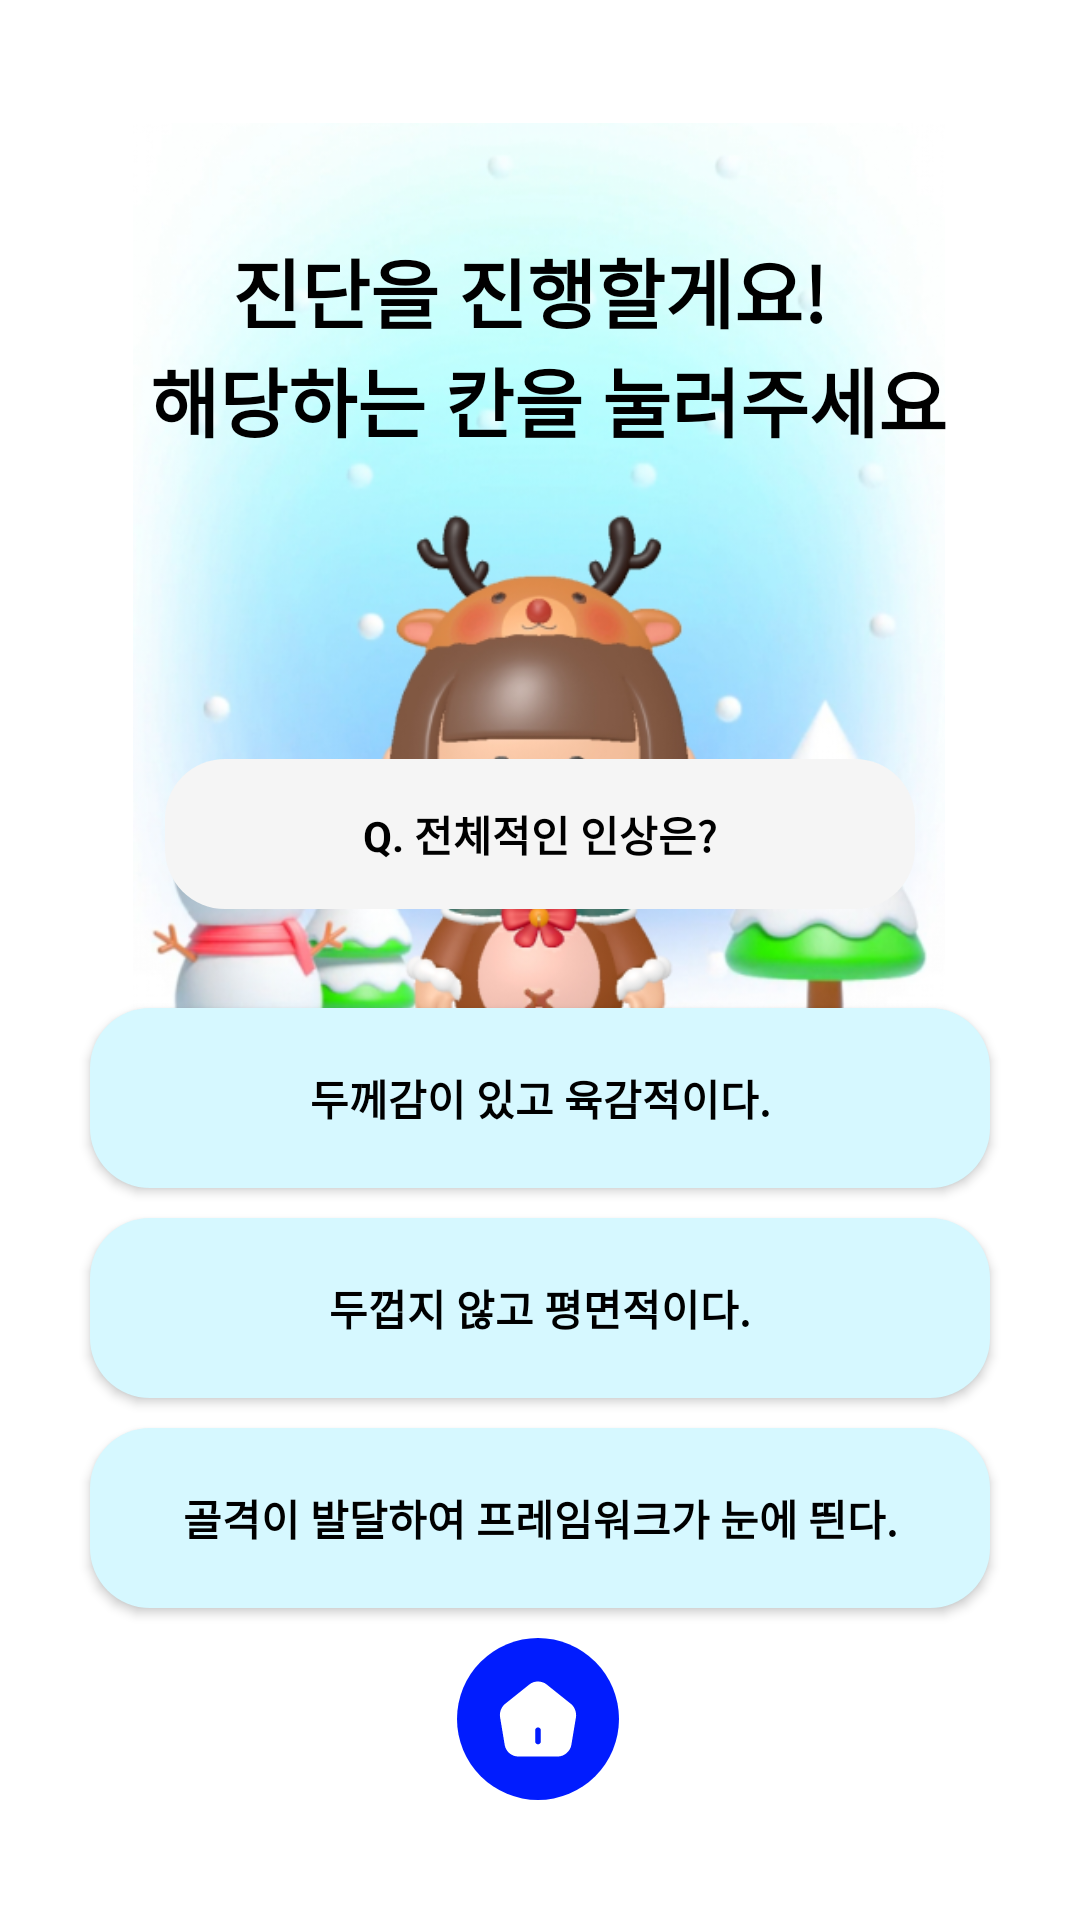

Named icons in this screenshot (1080px x 1920px) and their bounding boxes, (x1, y1, x2, y2):
home: (457, 1638, 619, 1800)
